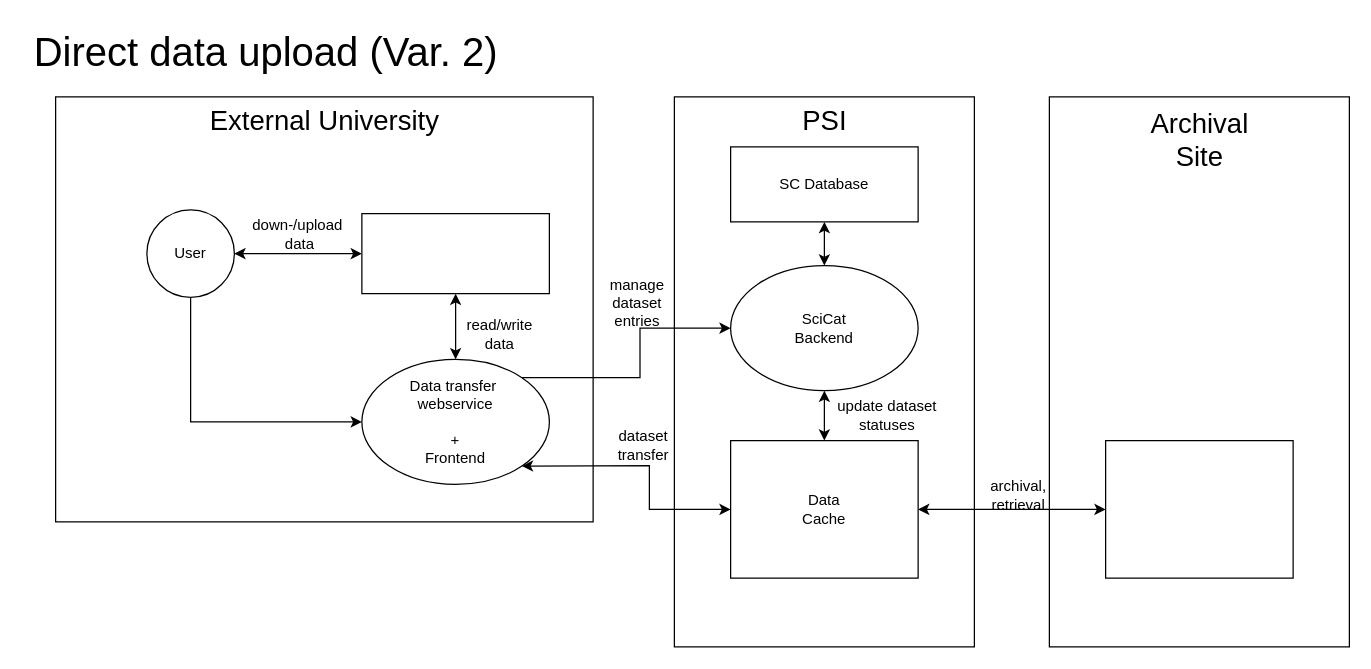
Image size: 1371x669. Some labels were removed from this diagram. The box of each missing label's shape, as (x1, y1, x2, y2) in pixels:
Local Cache: (361, 212, 549, 294)
Tape storage: (1104, 439, 1293, 578)
